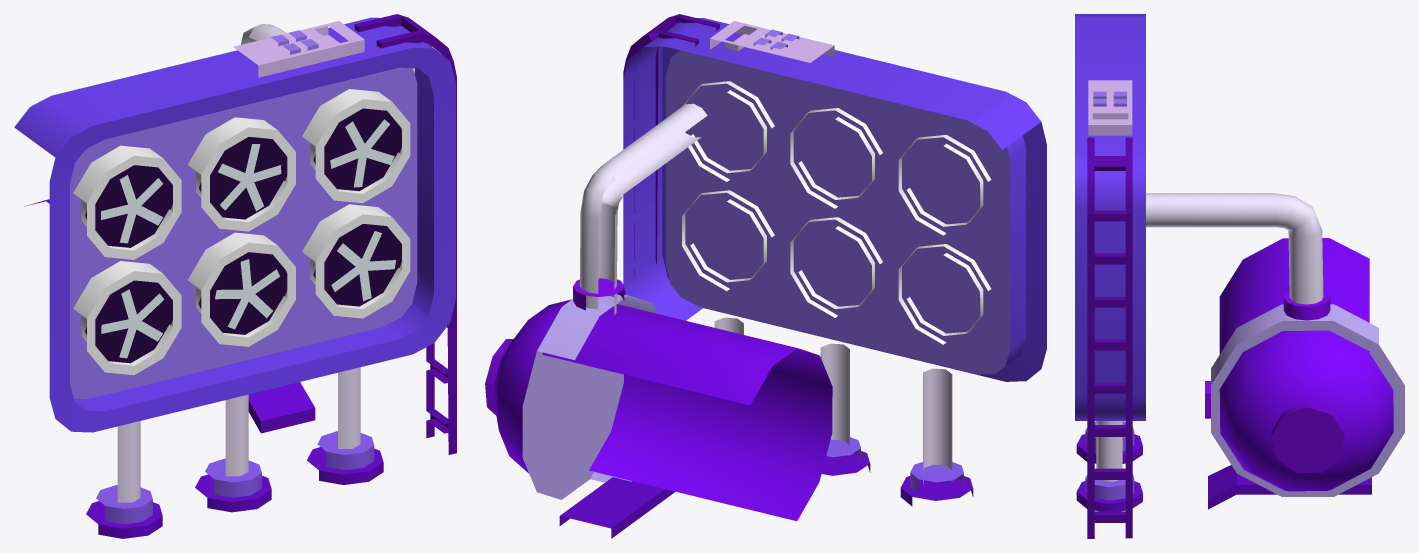
The model's file is 2026-1-9-CarbonCapture-v065.fbx.
3 renders of one model, left to right at view 1: azimuth 30°, elevation 25°; view 2: azimuth 150°, elevation 25°; view 3: azimuth 270°, elevation 25°, orthographic. The views are drawn at different scales.
Visible parts, largest first — view 1: Cube.003, Cube.004, Cylinder.010, Cylinder.009, Cylinder.007, Cylinder.012, Cylinder.008, Cylinder.011, Cylinder.022, Cylinder.019, Cylinder.023, Cylinder.018 (+20 smaller); view 2: Cube.003, Cylinder.013, Cylinder, Cylinder.001, Cube, Cylinder.025, Cube.001, Cylinder.003, Cube.004, Cylinder.007, Cylinder.012, Cylinder.010 (+8 smaller); view 3: Cylinder.013, Cube.003, Cube.004, Cylinder.001, Cylinder, Cylinder.017, Cube.001, Cube, Cylinder.006, Cylinder.024, Cylinder.005, Cylinder.015 (+1 smaller).
Part boxes in pixels (x1,y1,x2,y2): Cube.003: [14, 17, 455, 432]; Cube.004: [354, 14, 456, 454]; Cylinder.010: [302, 204, 410, 318]; Cylinder.009: [302, 89, 410, 203]; Cylinder.007: [73, 145, 181, 259]; Cylinder.012: [73, 261, 181, 375]; Cylinder.008: [187, 117, 295, 231]; Cylinder.011: [188, 232, 295, 346]; Cylinder.022: [85, 280, 172, 363]; Cylinder.019: [313, 108, 401, 191]; Cylinder.023: [85, 165, 172, 247]; Cylinder.018: [199, 137, 287, 219]; Cube.003: [623, 18, 1046, 381]; Cylinder.013: [494, 299, 832, 521]; Cylinder: [522, 294, 656, 499]; Cylinder.001: [579, 103, 707, 319]; Cube: [559, 477, 675, 538]; Cylinder.025: [923, 368, 952, 484]; Cube.001: [710, 21, 834, 62]; Cylinder.003: [820, 343, 849, 456]; Cube.004: [623, 14, 719, 294]; Cylinder.007: [898, 134, 991, 235]; Cylinder.012: [898, 244, 991, 344]; Cylinder.010: [682, 190, 774, 290]; Cylinder.013: [1219, 238, 1393, 491]; Cube.003: [1075, 14, 1145, 420]; Cube.004: [1087, 137, 1132, 538]; Cylinder.001: [1146, 193, 1323, 304]; Cylinder: [1211, 304, 1404, 496]; Cylinder.017: [1271, 403, 1344, 473]; Cube.001: [1088, 80, 1132, 135]; Cube: [1208, 465, 1371, 509]; Cylinder.006: [1096, 421, 1122, 481]; Cylinder.024: [1283, 290, 1330, 320]; Cylinder.005: [1076, 481, 1142, 511]; Cylinder.015: [1085, 468, 1134, 500].
Size of the model in its own units: 348 by 335 by 264.
